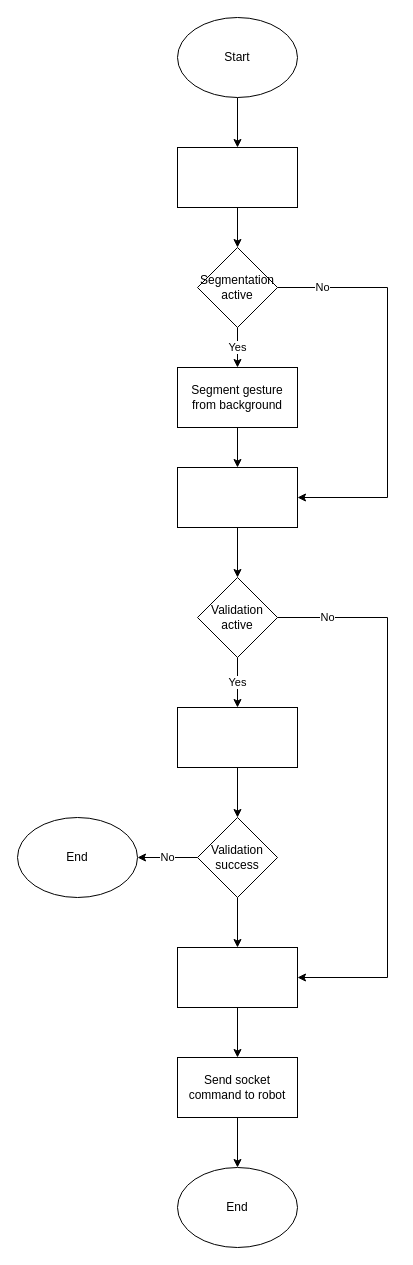
Some shapes in this 413 by 1265 pixel diagram are drawn without their labels. The centre of each missing label's shape, as x and y in pixels:
"Capture gesture" goes at pixel 237 177.
"Classify gesture" goes at pixel 237 497.
"Send gesture classification to robot caller" goes at pixel 237 977.
"Validate gesture" goes at pixel 237 737.
